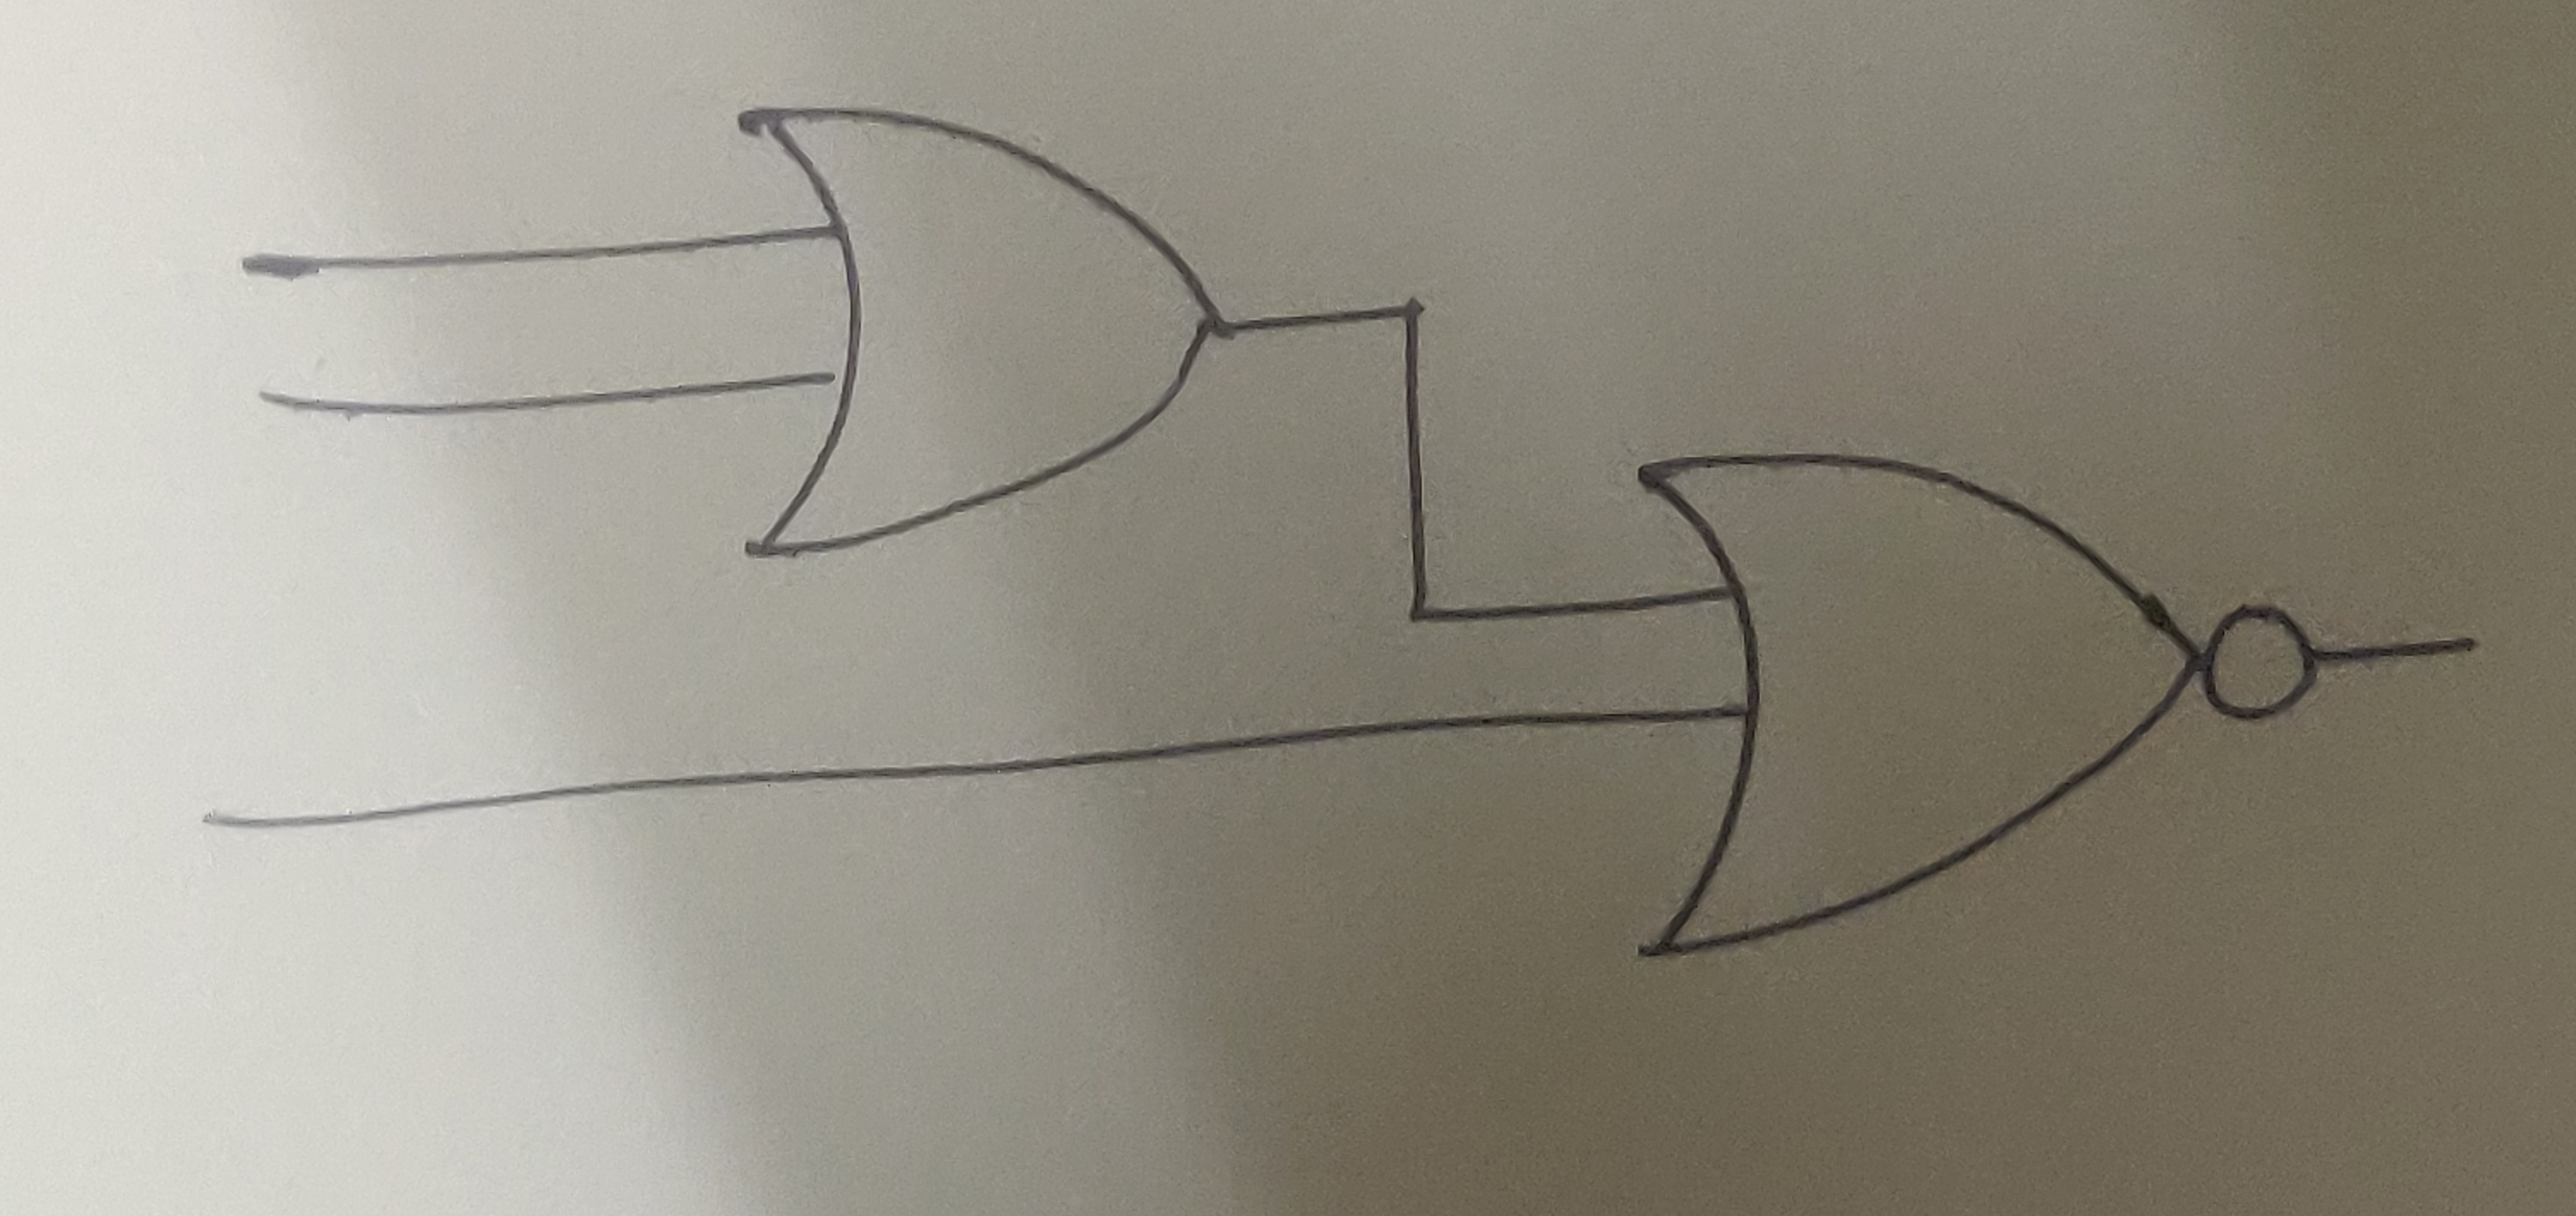not: (2201, 605, 2316, 730)
or: (1626, 454, 2201, 966), (726, 95, 1232, 565)
